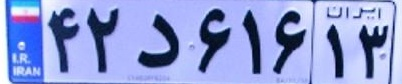character: (184, 2, 234, 79), (129, 5, 183, 74), (82, 2, 125, 79), (269, 2, 309, 82), (44, 1, 82, 77), (236, 2, 269, 82), (354, 21, 389, 82), (321, 22, 351, 82)
